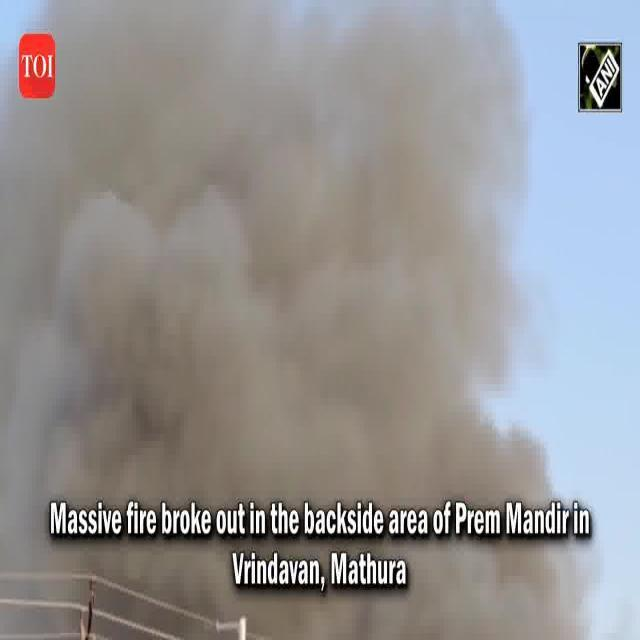Smoke: (72, 66, 540, 447)
